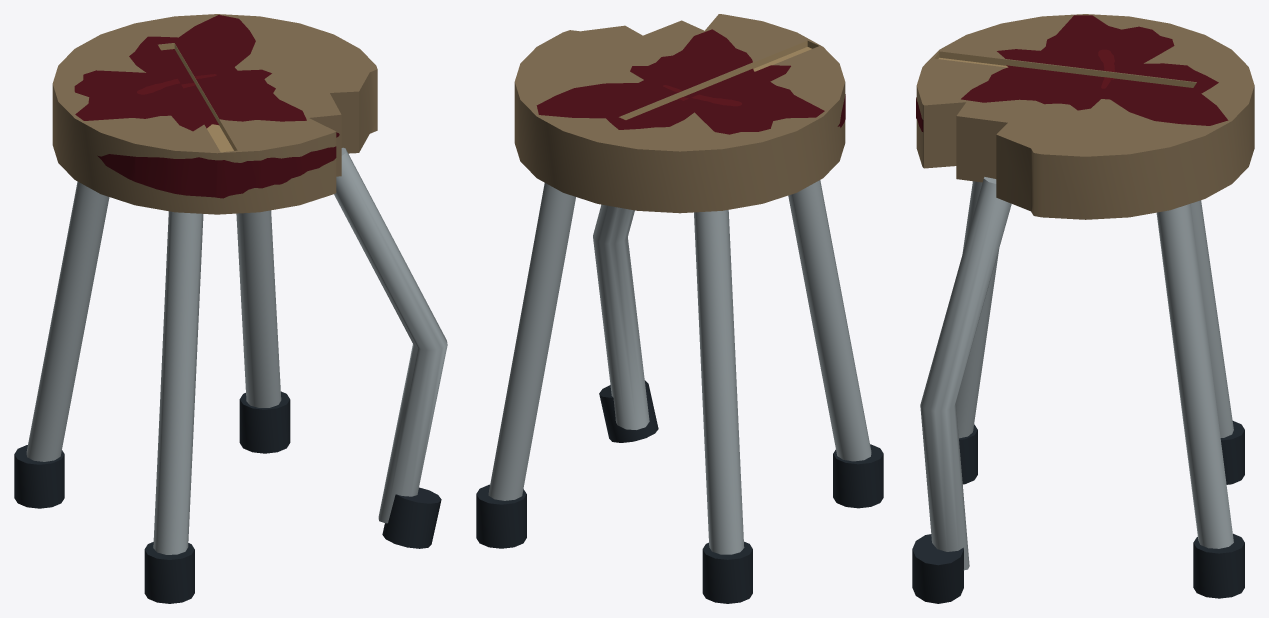
Rendered from team_stool.glb.
3 views of the same model, side by side, from view 1: azimuth 30°, elevation 25°; view 2: azimuth 150°, elevation 25°; view 3: azimuth 270°, elevation 25° (orthographic). The views are drawn at different scales.
Parts seen in each view (by area): view 1: Outbreak_TeamStool_starter_Static; view 2: Outbreak_TeamStool_starter_Static; view 3: Outbreak_TeamStool_starter_Static.
Part boxes in pixels (bbox=[...]): Outbreak_TeamStool_starter_Static: bbox=[14, 14, 447, 603]; Outbreak_TeamStool_starter_Static: bbox=[476, 14, 883, 603]; Outbreak_TeamStool_starter_Static: bbox=[912, 14, 1254, 603].
Size of the model in its own units: 0.3564 by 0.4992 by 0.3444.
